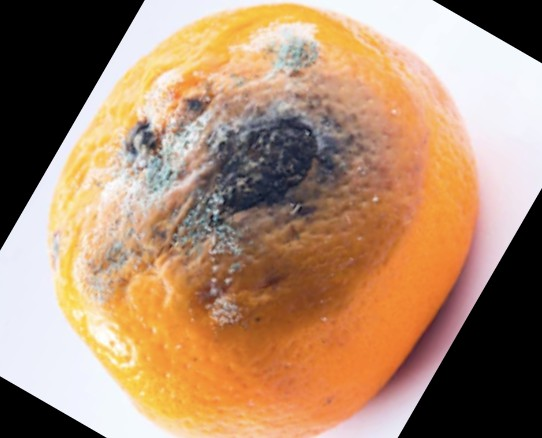rotten_orange: (51, 3, 481, 438)
